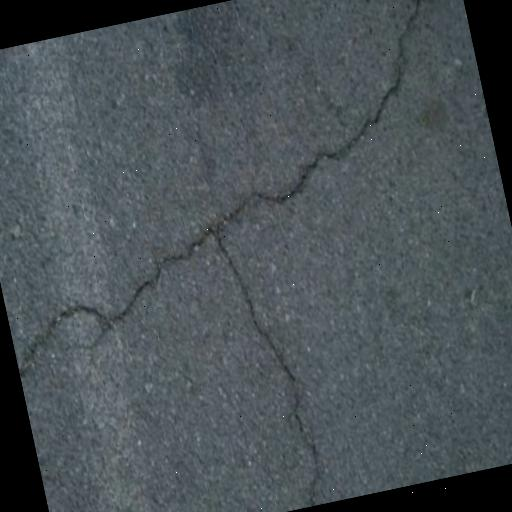spalling: (20, 0, 454, 369), (213, 221, 340, 498)
